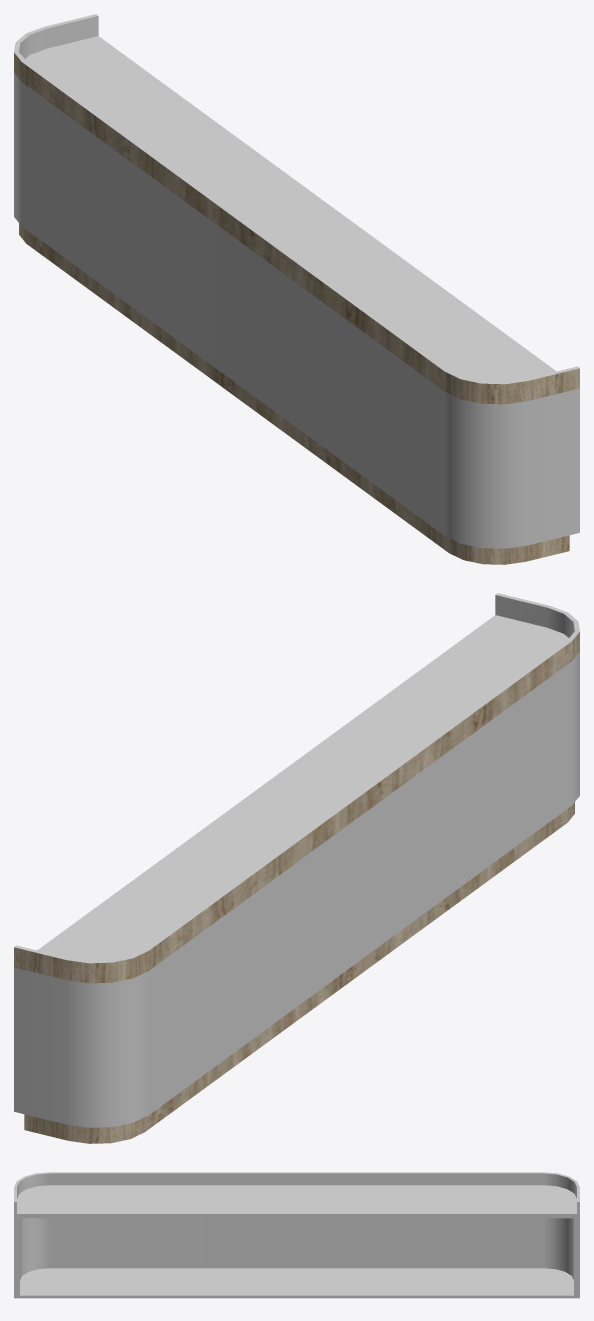
The model's file is Table02Long.fbx.
The picture shows the model from 3 angles, top to bottom: view 1: azimuth 30°, elevation 25°; view 2: azimuth 150°, elevation 25°; view 3: azimuth 270°, elevation 25°; orthographic projection. The views are drawn at different scales.
Visible parts, largest first — view 1: TableLong; view 2: TableLong; view 3: TableLong.
Part boxes in pixels (x1,y1,x2,y2): TableLong: [14, 14, 579, 564]; TableLong: [14, 593, 579, 1143]; TableLong: [14, 1172, 579, 1298].
Bounding box in the file's own units: 60 × 100 × 480.
